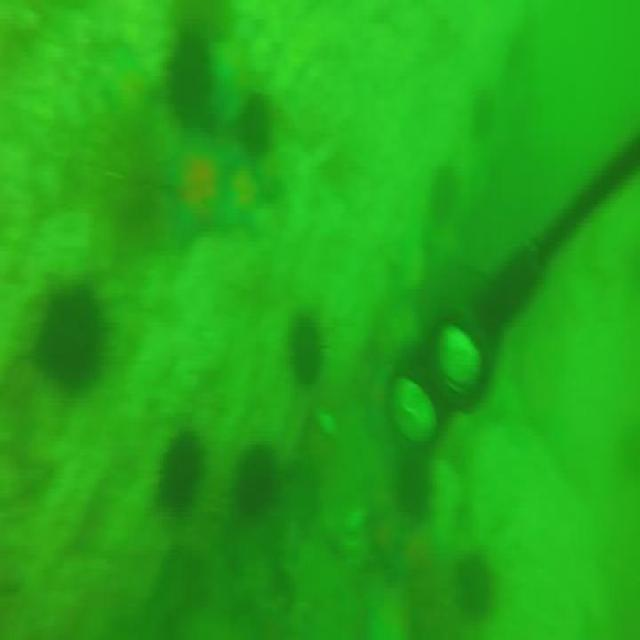echinus: (27, 272, 105, 387), (156, 431, 210, 520), (167, 30, 213, 125), (236, 447, 284, 515), (452, 560, 492, 622), (426, 159, 458, 234), (294, 313, 324, 385), (239, 94, 269, 160), (473, 84, 498, 137)
starfish: (164, 133, 262, 250)
